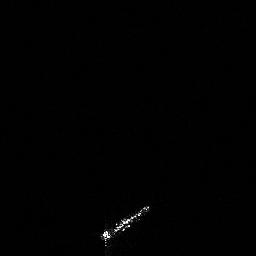ship: (95, 201, 153, 248)
